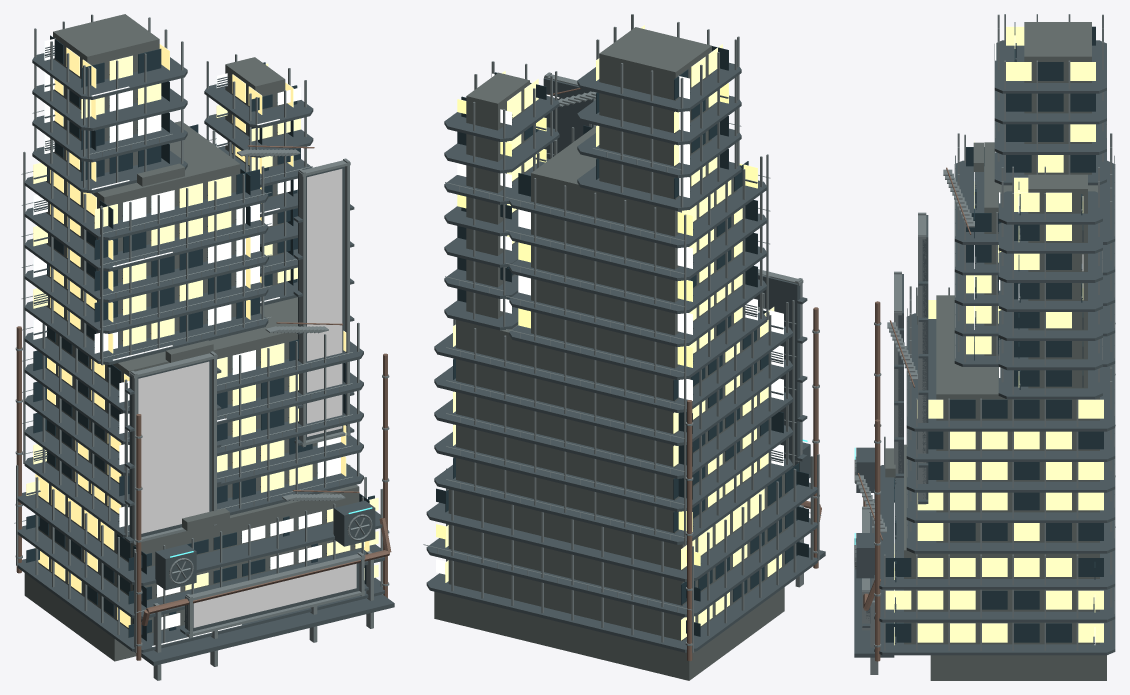
Rendered from terraces.glb.
The picture shows the model from 3 angles, left to right: view 1: azimuth 30°, elevation 25°; view 2: azimuth 150°, elevation 25°; view 3: azimuth 270°, elevation 25°; orthographic projection. The views are drawn at different scales.
Visible parts, largest first — view 1: terraces-Armor, terraces-Edge, terraces-Concrete, terraces-Warm, terraces-Glass, terraces-AdPortrait, terraces-Pearl, terraces-AdVertical, terraces-Copper, terraces-AdStrip; view 2: terraces-Concrete, terraces-Armor, terraces-Edge, terraces-Warm, terraces-Glass, terraces-Pearl, terraces-Copper; view 3: terraces-Armor, terraces-Concrete, terraces-Warm, terraces-Glass, terraces-Edge, terraces-Copper.
Part boxes in pixels (x1,y1,x2,y2): terraces-Armor: [17, 45, 394, 665]; terraces-Edge: [14, 14, 389, 680]; terraces-Concrete: [24, 14, 359, 661]; terraces-Warm: [26, 44, 378, 627]; terraces-Glass: [26, 35, 374, 641]; terraces-AdPortrait: [138, 361, 209, 533]; terraces-Pearl: [33, 38, 340, 646]; terraces-AdVertical: [307, 169, 342, 436]; terraces-Copper: [16, 145, 391, 660]; terraces-AdStrip: [193, 563, 356, 627]; terraces-Concrete: [434, 27, 788, 680]; terraces-Armor: [426, 62, 825, 652]; terraces-Edge: [423, 14, 821, 652]; terraces-Warm: [436, 25, 781, 640]; terraces-Glass: [436, 46, 808, 636]; terraces-Pearl: [436, 61, 783, 574]; terraces-Copper: [548, 88, 821, 661]; terraces-Armor: [854, 40, 1115, 657]; terraces-Concrete: [885, 22, 1106, 680]; terraces-Warm: [885, 26, 1103, 645]; terraces-Glass: [885, 22, 1103, 642]; terraces-Edge: [854, 14, 1115, 674]; terraces-Copper: [857, 167, 971, 661].
Bounding box in the file's own units: 36 × 76.3 × 32.56.
